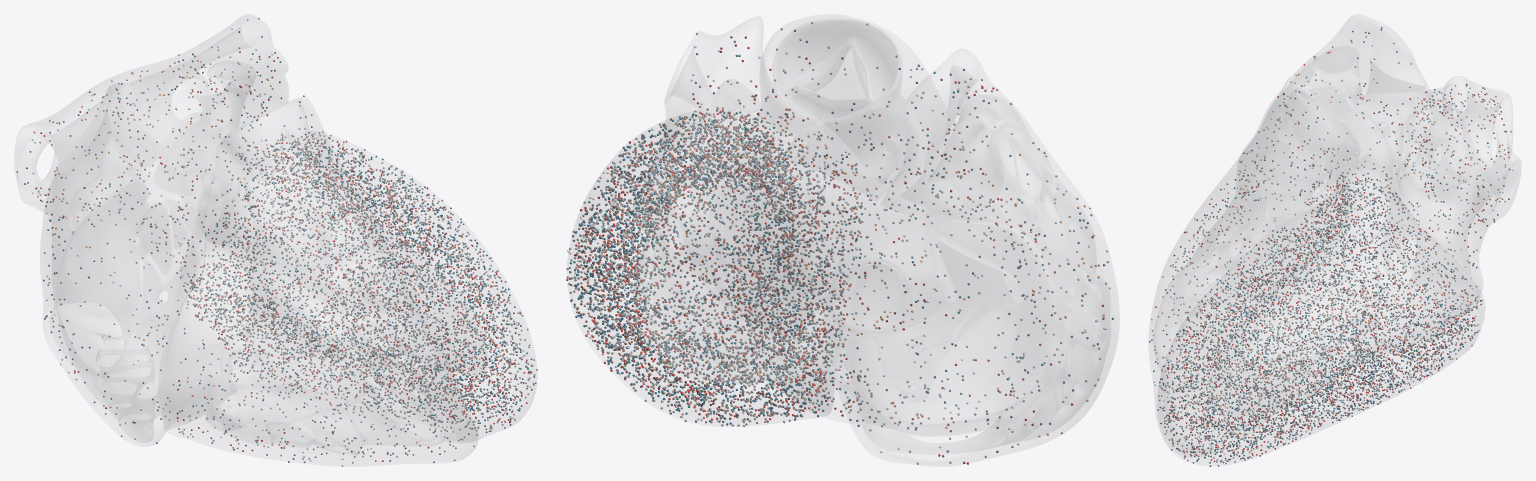
Rendered from 3d-vh-m-heart-UBERON_0000948-all-as-azimuth-sphere-hra-pop.glb.
3 renders of one model, left to right at view 1: azimuth 30°, elevation 25°; view 2: azimuth 150°, elevation 25°; view 3: azimuth 270°, elevation 25°, orthographic. The views are drawn at different scales.
Visible parts, largest first — view 1: VH_M_heart_right_ventricle, VH_M_right_cardiac_atrium, VH_M_left_cardiac_atrium, VH_M_heart_left_ventricle, VH_M_tricuspid_valve, VH_M_pulmonary_valve, VH_M_aortic_valve, VH_M_papillary_muscle_of_heart_anterior, VH_M_interventricular_septum; view 2: VH_M_right_cardiac_atrium, VH_M_left_cardiac_atrium, VH_M_heart_right_ventricle, VH_M_mitral_valve, VH_M_heart_left_ventricle, VH_M_pulmonary_valve, VH_M_tricuspid_valve, VH_M_aortic_valve, VH_M_papillary_muscle_of_heart_posteromedial; view 3: VH_M_heart_left_ventricle, VH_M_heart_right_ventricle, VH_M_left_cardiac_atrium, VH_M_right_cardiac_atrium, VH_M_pulmonary_valve, VH_M_papillary_muscle_of_heart_anterolateral, VH_M_mitral_valve, VH_M_interventricular_septum, VH_M_aortic_valve, VH_M_papillary_muscle_of_heart_posteromedial, VH_M_tricuspid_valve.
Boxes of the visible parts, <box> form: VH_M_heart_right_ventricle: <box>162,96,477,466</box>; VH_M_right_cardiac_atrium: <box>40,83,215,446</box>; VH_M_left_cardiac_atrium: <box>14,14,288,215</box>; VH_M_heart_left_ventricle: <box>196,131,536,442</box>; VH_M_tricuspid_valve: <box>157,242,251,431</box>; VH_M_pulmonary_valve: <box>221,100,308,180</box>; VH_M_aortic_valve: <box>167,116,240,209</box>; VH_M_papillary_muscle_of_heart_anterior: <box>284,356,366,398</box>; VH_M_interventricular_septum: <box>209,195,478,443</box>; VH_M_right_cardiac_atrium: <box>827,49,1119,466</box>; VH_M_left_cardiac_atrium: <box>633,16,955,383</box>; VH_M_heart_right_ventricle: <box>757,14,1023,436</box>; VH_M_mitral_valve: <box>643,185,823,382</box>; VH_M_heart_left_ventricle: <box>567,110,833,426</box>; VH_M_pulmonary_valve: <box>773,19,901,119</box>; VH_M_tricuspid_valve: <box>854,219,1016,432</box>; VH_M_aortic_valve: <box>788,113,901,201</box>; VH_M_papillary_muscle_of_heart_posteromedial: <box>696,262,735,311</box>; VH_M_heart_left_ventricle: <box>1157,153,1484,465</box>; VH_M_heart_right_ventricle: <box>1149,86,1360,457</box>; VH_M_left_cardiac_atrium: <box>1355,76,1520,292</box>; VH_M_right_cardiac_atrium: <box>1236,14,1438,191</box>; VH_M_pulmonary_valve: <box>1278,88,1358,174</box>; VH_M_papillary_muscle_of_heart_anterolateral: <box>1255,234,1384,365</box>; VH_M_mitral_valve: <box>1381,166,1480,303</box>; VH_M_interventricular_septum: <box>1174,167,1388,430</box>; VH_M_aortic_valve: <box>1337,119,1403,187</box>; VH_M_papillary_muscle_of_heart_posteromedial: <box>1261,313,1378,373</box>; VH_M_tricuspid_valve: <box>1252,189,1320,229</box>.
Size of the model in its own units: 0.1244 by 0.1054 by 0.1052.
